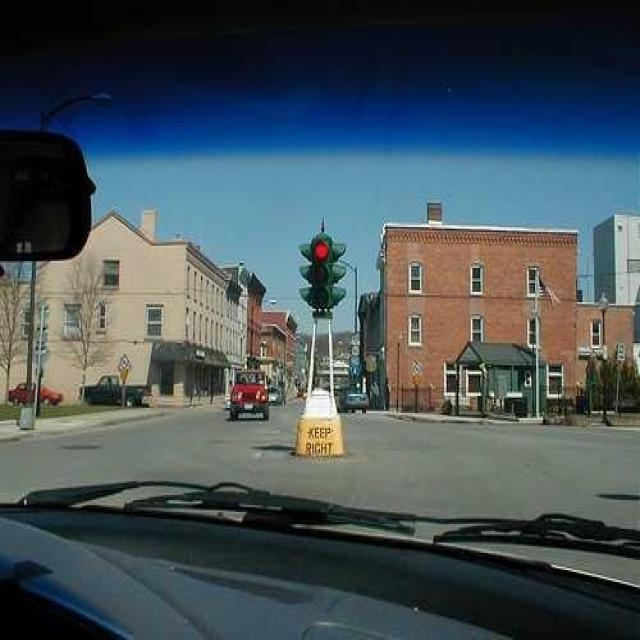Traffic Light -Red-: (311, 237, 334, 316)
